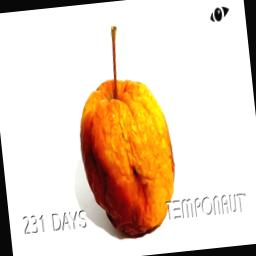Apple Rotten: (64, 12, 188, 241)
